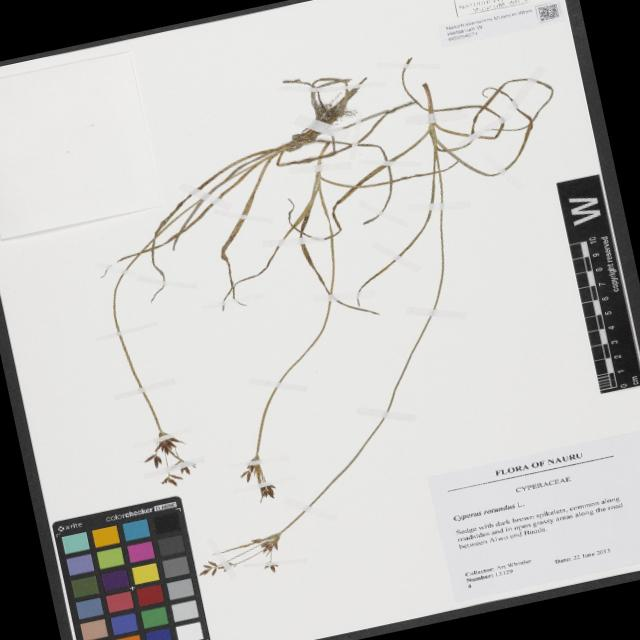cyperus: (192, 524, 299, 592), (132, 423, 208, 495), (229, 450, 286, 504)
